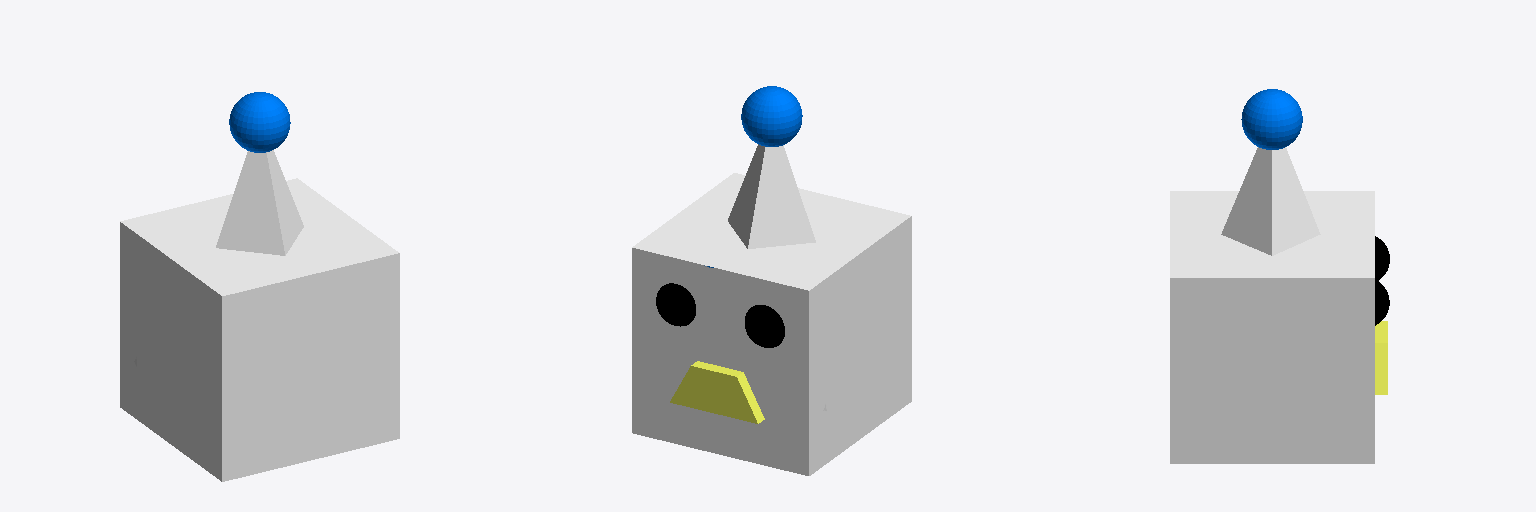
3 views of the same model, side by side, from view 1: azimuth 30°, elevation 25°; view 2: azimuth 150°, elevation 25°; view 3: azimuth 270°, elevation 25° (orthographic).
Parts seen in each view (by area): view 1: 立方体.001; view 2: 立方体.001; view 3: 立方体.001.
Boxes of the visible parts, x1,y1,x2,y2 form: 立方体.001: [120, 92, 399, 481]; 立方体.001: [632, 86, 911, 475]; 立方体.001: [1170, 89, 1389, 463].
Bounding box in the file's own units: 2 × 3.54 × 2.15.
1 materials, 1 textured.